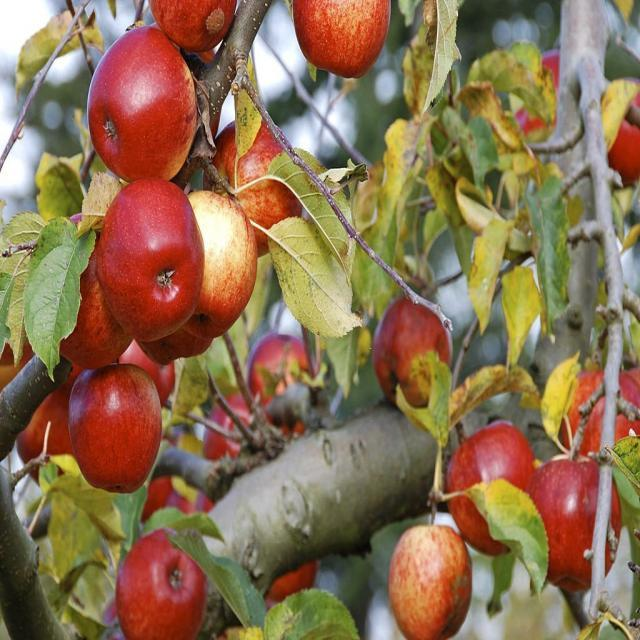Red Apple: (85, 30, 196, 189), (96, 179, 207, 332), (53, 201, 136, 364), (181, 183, 256, 341), (448, 424, 543, 546), (208, 119, 293, 255), (534, 449, 620, 576), (72, 364, 161, 479), (119, 531, 212, 640), (389, 527, 477, 639), (13, 360, 92, 482), (563, 359, 640, 476), (373, 291, 453, 398), (288, 1, 399, 77), (252, 328, 318, 428), (197, 388, 272, 473), (143, 1, 239, 53), (115, 328, 177, 405), (144, 454, 215, 518), (520, 51, 568, 137), (261, 546, 324, 608), (605, 74, 640, 171), (1, 314, 31, 374)
